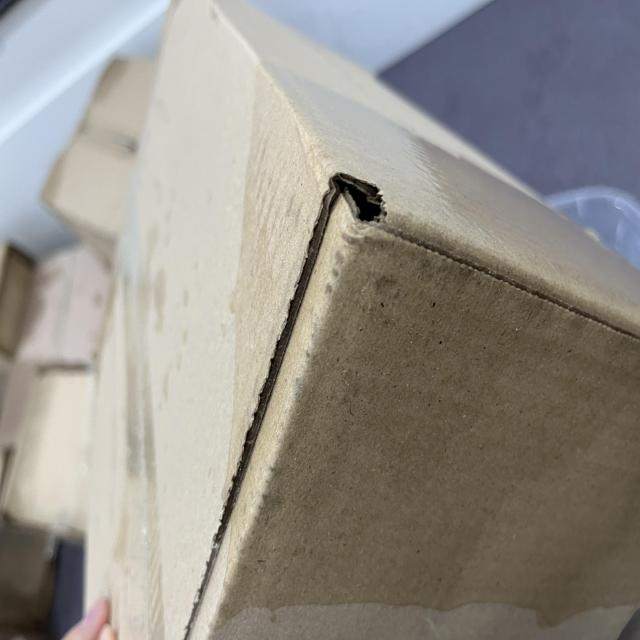wet: (26, 249, 441, 640)
